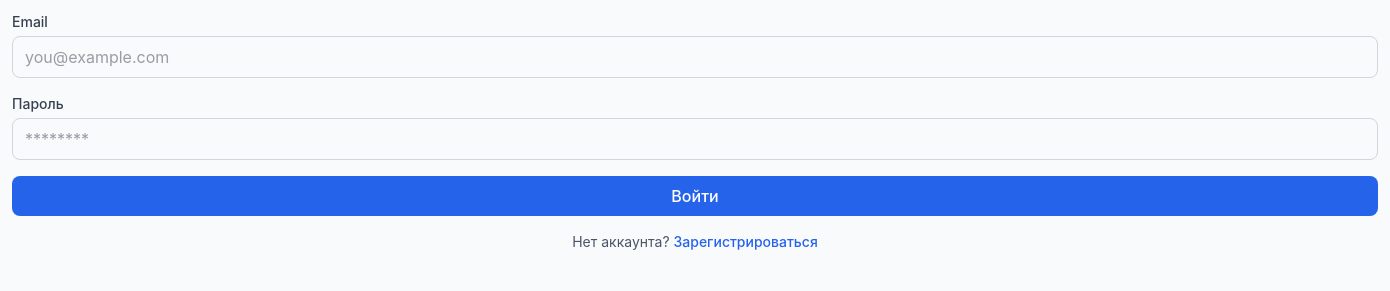
it: LoginForm › показывает ошибку валидации для короткого пароля и не вызывает login
Type "alex@example.com" into the field with placeholder "you@example.com" at x=695, y=57, box x1=12 y1=36 x2=1378 y2=78
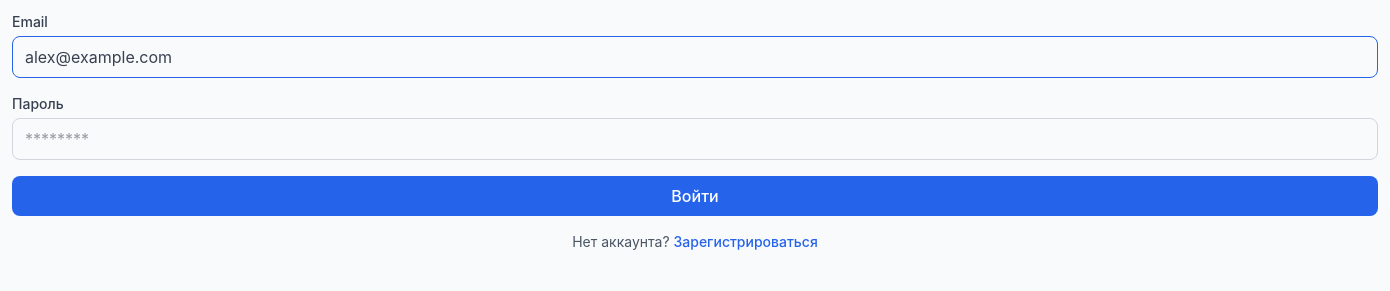
Type "123" into the password field with placeholder "********" at x=695, y=139, box x1=12 y1=118 x2=1378 y2=160
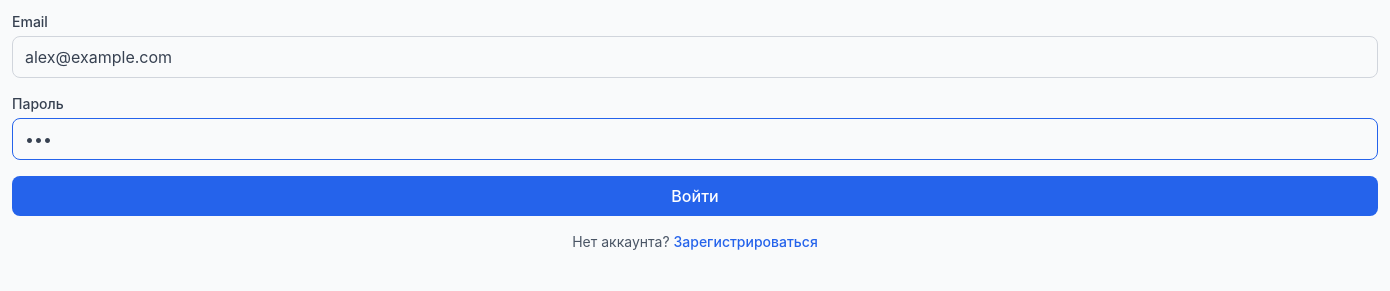
Click the button "Войти" at x=695, y=196, box x1=12 y1=176 x2=1378 y2=216
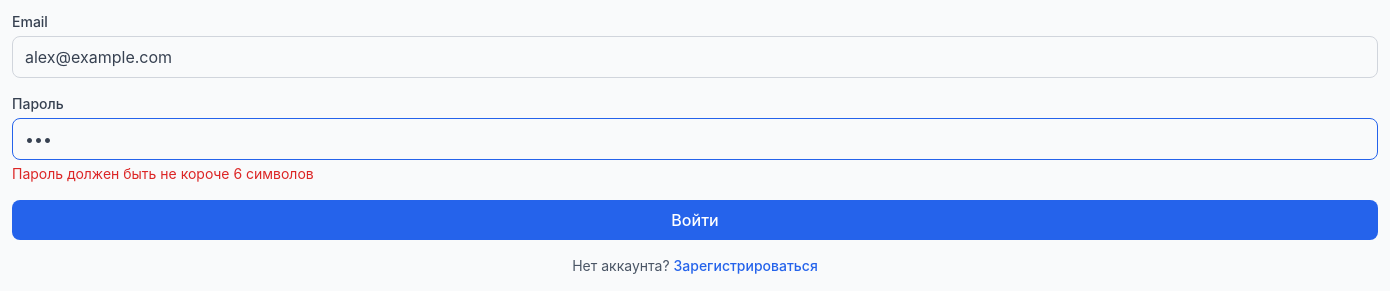
Result: the text "Пароль должен быть не короче 6 символов" is shown at x1=12 y1=165 x2=314 y2=182
